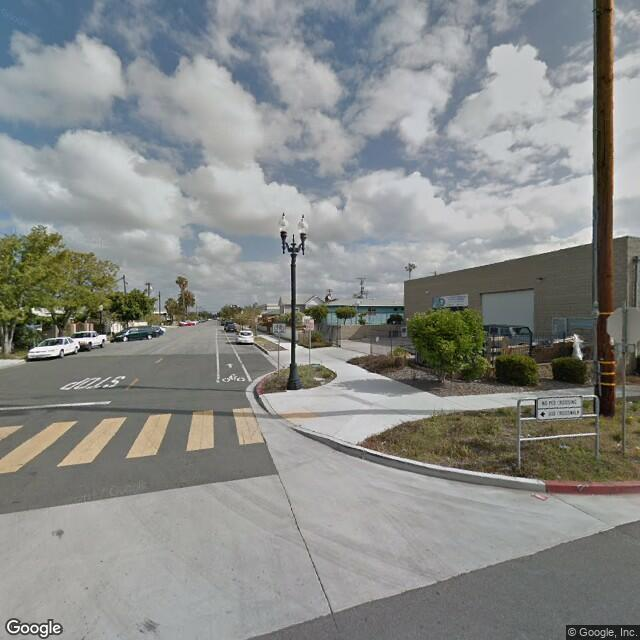litter: (530, 483, 548, 503)
